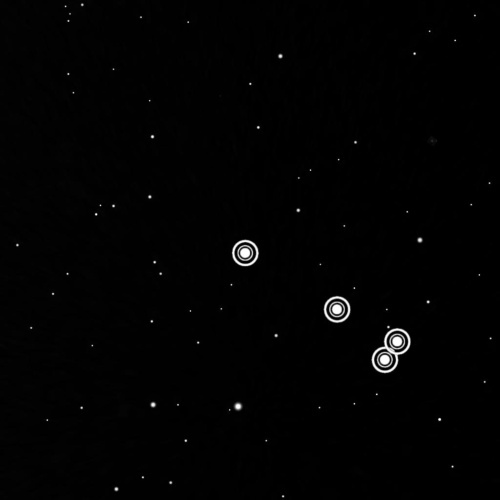sagitta: (224, 234, 416, 380)
